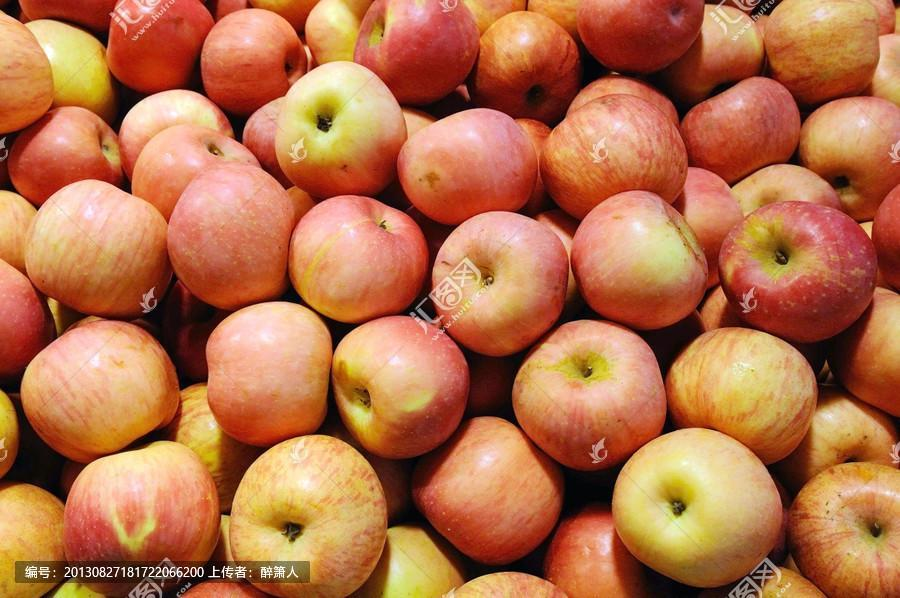apple: (612, 428, 783, 588), (224, 432, 387, 592), (510, 317, 667, 475), (16, 318, 187, 460), (714, 197, 880, 341), (409, 415, 564, 568), (54, 438, 219, 576), (425, 212, 569, 357), (330, 312, 470, 459), (24, 179, 175, 314), (202, 300, 333, 448), (569, 189, 708, 328), (286, 194, 430, 324), (170, 161, 300, 305), (394, 106, 542, 227), (276, 59, 404, 197), (541, 92, 689, 210), (780, 458, 899, 596), (347, 1, 477, 107), (760, 1, 888, 107), (469, 7, 582, 127), (6, 18, 121, 129), (198, 5, 305, 118), (659, 4, 764, 110), (544, 507, 663, 596), (577, 1, 699, 73), (1, 259, 52, 387), (303, 1, 360, 67)
